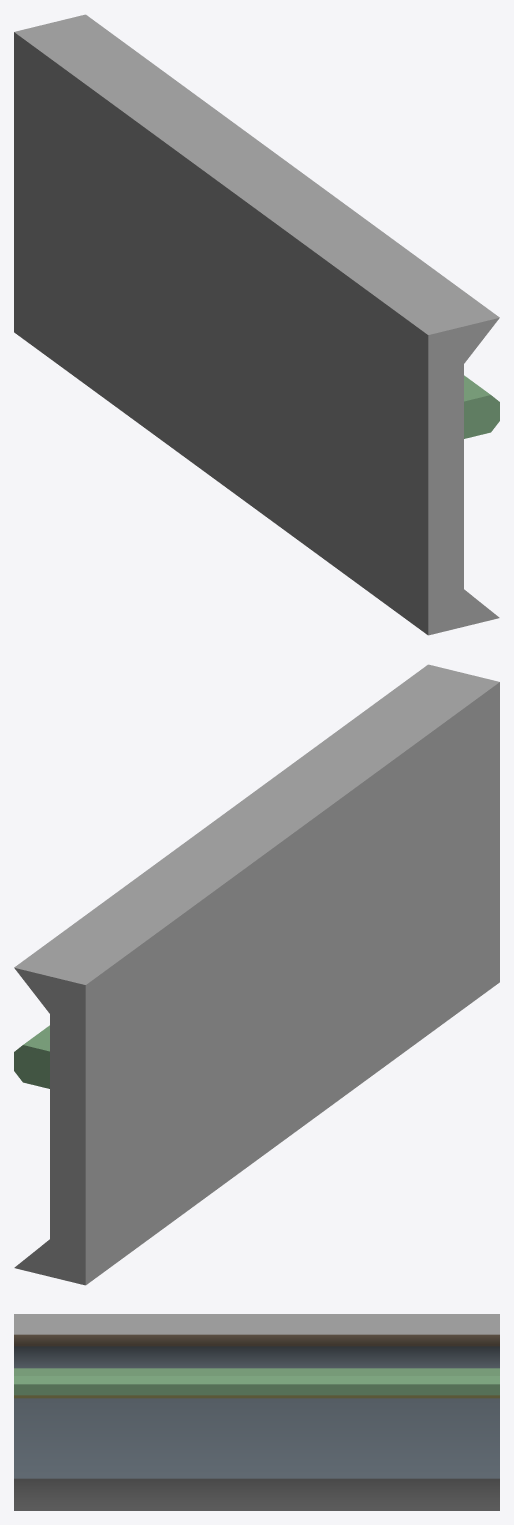
Rendered from Wall.fbx.
3 views of the same model, one above another, from view 1: azimuth 30°, elevation 25°; view 2: azimuth 150°, elevation 25°; view 3: azimuth 270°, elevation 25° (orthographic). The views are drawn at different scales.
Parts seen in each view (by area): view 1: Wall; view 2: Wall; view 3: Wall.
Part boxes in pixels (x1,y1,x2,y2): Wall: (14, 14, 499, 635); Wall: (14, 664, 499, 1285); Wall: (14, 1314, 499, 1510).
Size of the model in its own units: 100 by 400 by 1000.
